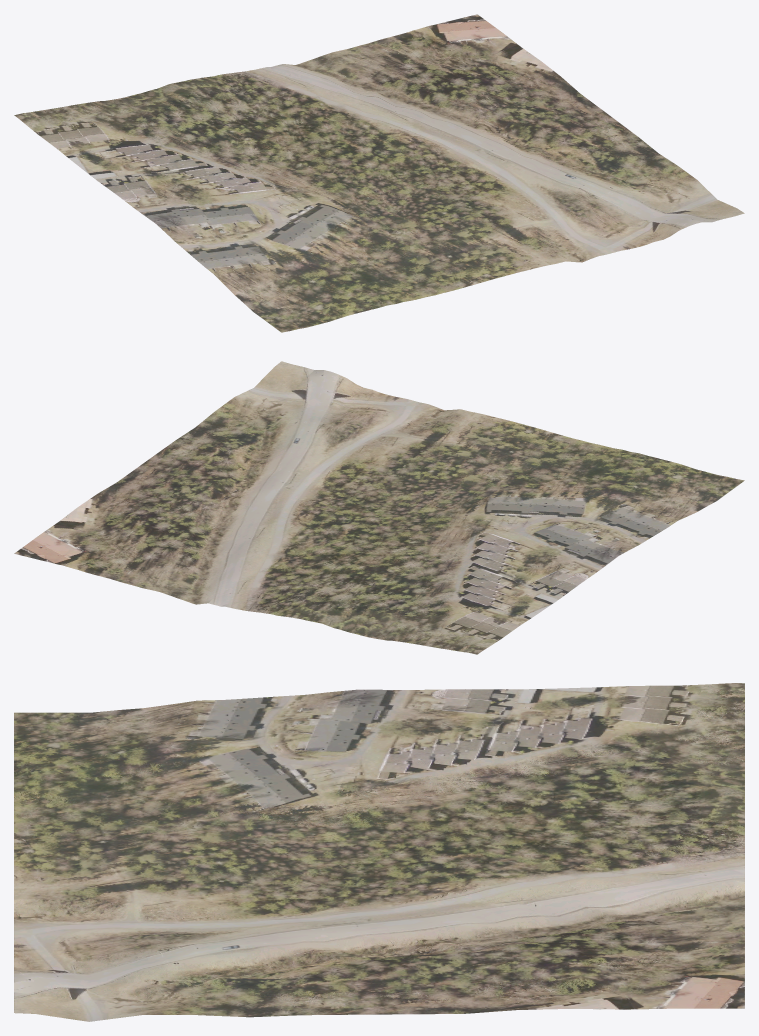
Rendered from CM_Terrain_24492506_6814469.fbx.
The picture shows the model from 3 angles, top to bottom: view 1: azimuth 30°, elevation 25°; view 2: azimuth 150°, elevation 25°; view 3: azimuth 270°, elevation 25°; orthographic projection. The views are drawn at different scales.
Visible parts, largest first — view 1: CM_Terrain_24492506_6814469_LOD0; view 2: CM_Terrain_24492506_6814469_LOD0; view 3: CM_Terrain_24492506_6814469_LOD0.
Boxes of the visible parts, x1=… form: CM_Terrain_24492506_6814469_LOD0: x1=14, y1=14, x2=744, y2=332; CM_Terrain_24492506_6814469_LOD0: x1=14, y1=361, x2=744, y2=654; CM_Terrain_24492506_6814469_LOD0: x1=14, y1=683, x2=744, y2=1021.
Size of what is drawn, in the model's own units: 205 by 10.47 by 205.
